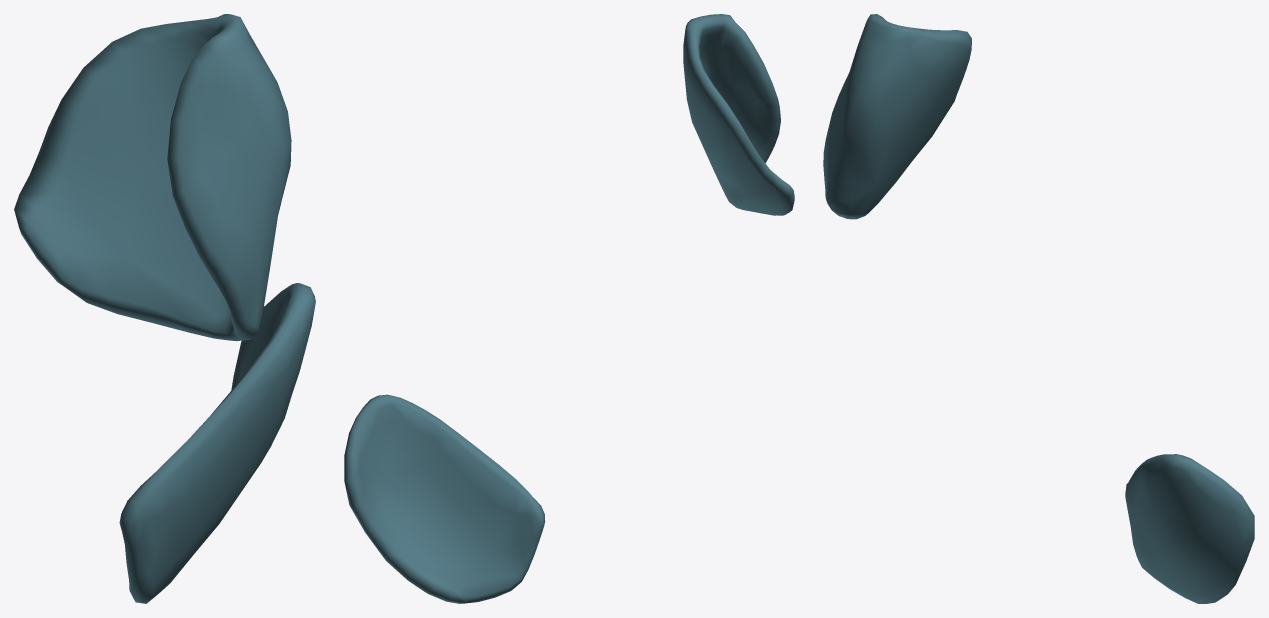
The model's file is Scalenus_medius_and_posterior_on_transverse_processes.l_Generat.glb.
3 renders of one model, left to right at view 1: azimuth 30°, elevation 25°; view 2: azimuth 150°, elevation 25°; view 3: azimuth 270°, elevation 25°, orthographic. The views are drawn at different scales.
Parts seen in each view (by area): view 1: Scalenus_medius_and_posterior_on_transverse_processes.l_Gene; view 2: Scalenus_medius_and_posterior_on_transverse_processes.l_Gene; view 3: Scalenus_medius_and_posterior_on_transverse_processes.l_Gene.
Part boxes in pixels (x1,y1,x2,y2): Scalenus_medius_and_posterior_on_transverse_processes.l_Gene: (14, 14, 315, 603); Scalenus_medius_and_posterior_on_transverse_processes.l_Gene: (344, 14, 794, 603); Scalenus_medius_and_posterior_on_transverse_processes.l_Gene: (823, 14, 1254, 603).
Bounding box in the file's own units: 0.00948 × 0.0146 × 0.0108.
